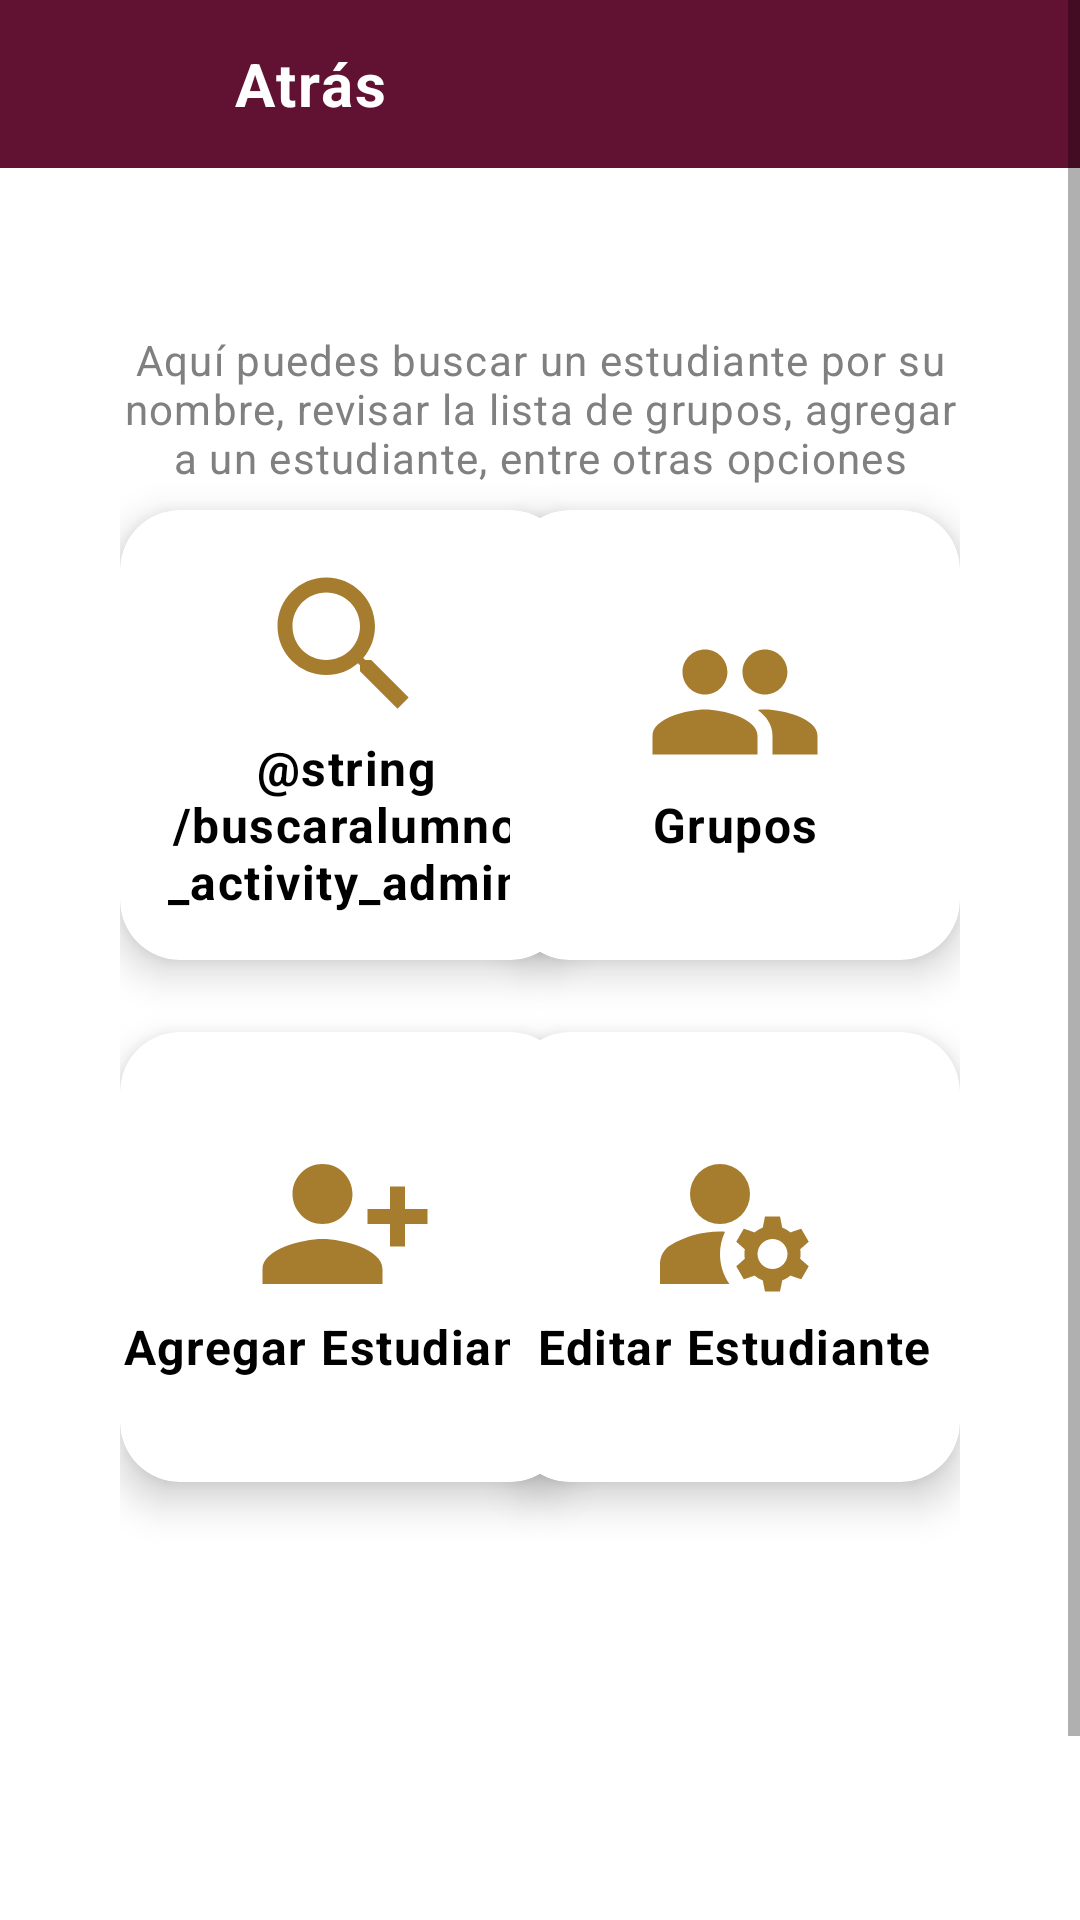

Icon bounding boxes for this 1080x1920 phone screenshot, format (left=x1, top=y1, right=x2, bottom=y2):
lupa: (left=277, top=577, right=409, bottom=709)
persona tuerca: (left=660, top=1164, right=809, bottom=1292)
personas: (left=652, top=649, right=818, bottom=755)
